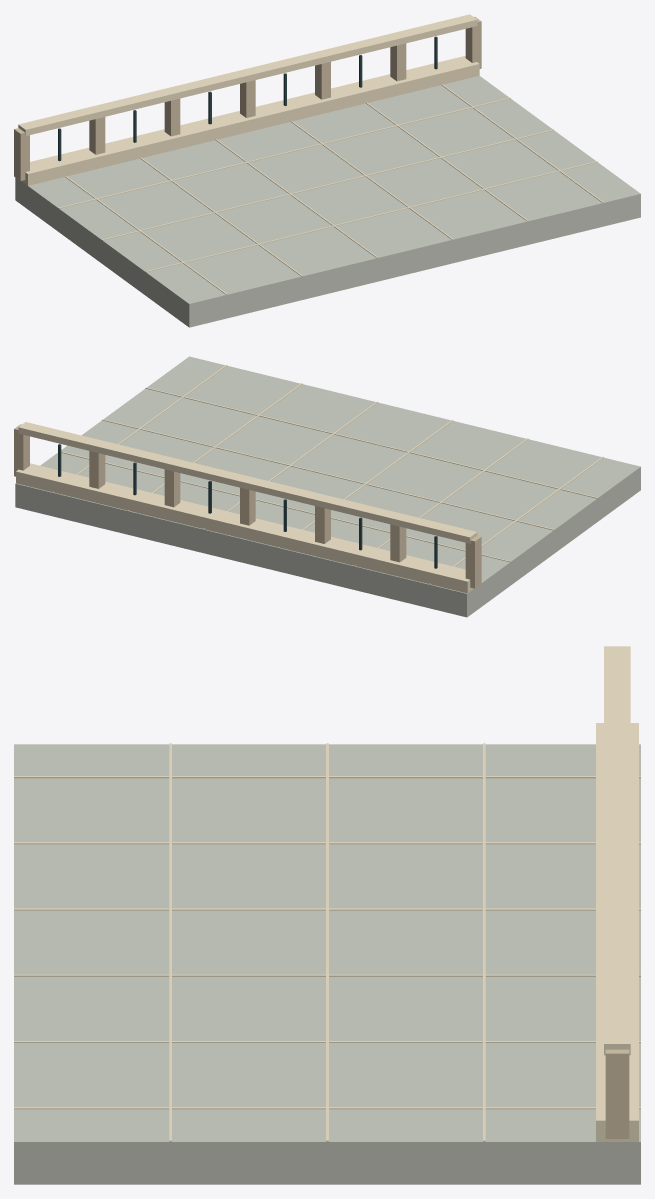
The model's file is promenade-section.glb.
The picture shows the model from 3 angles, top to bottom: view 1: azimuth 30°, elevation 25°; view 2: azimuth 150°, elevation 25°; view 3: azimuth 270°, elevation 25°; orthographic projection. The views are drawn at different scales.
Parts seen in each view (by area): view 1: promenade-section; view 2: promenade-section; view 3: promenade-section.
Boxes of the visible parts, x1,y1,x2,y2 form: promenade-section: (14, 14, 640, 327); promenade-section: (14, 356, 640, 617); promenade-section: (14, 646, 640, 1184).
Bounding box in the file's own units: 12.25 × 1.98 × 8.
